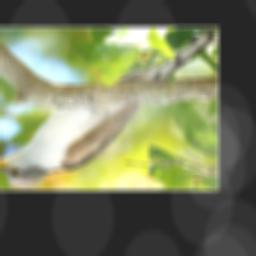Cuckoo: (0, 29, 218, 184)
